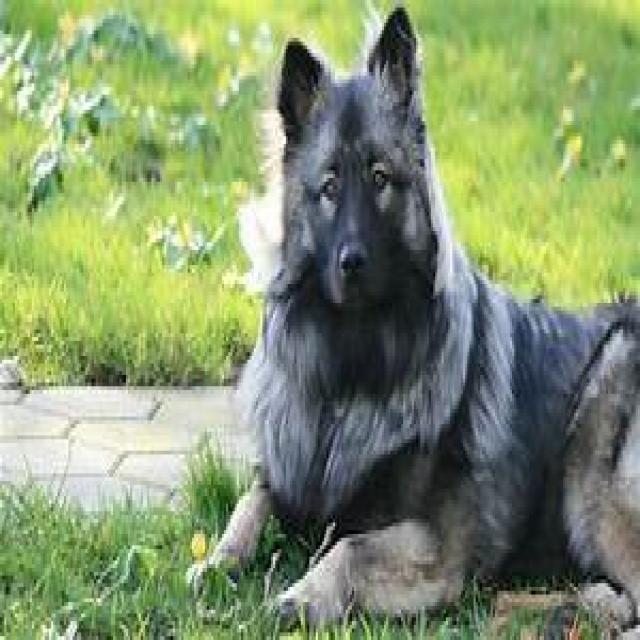animal: (189, 16, 640, 640)
